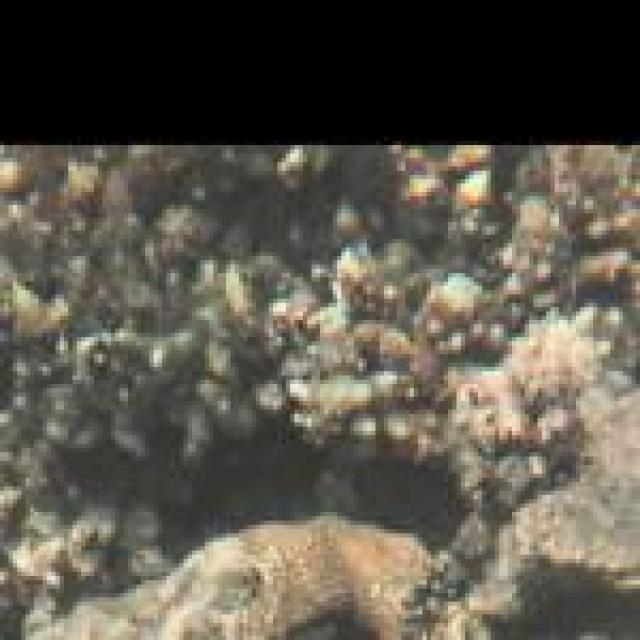Healthy Coral: (61, 500, 494, 640)
